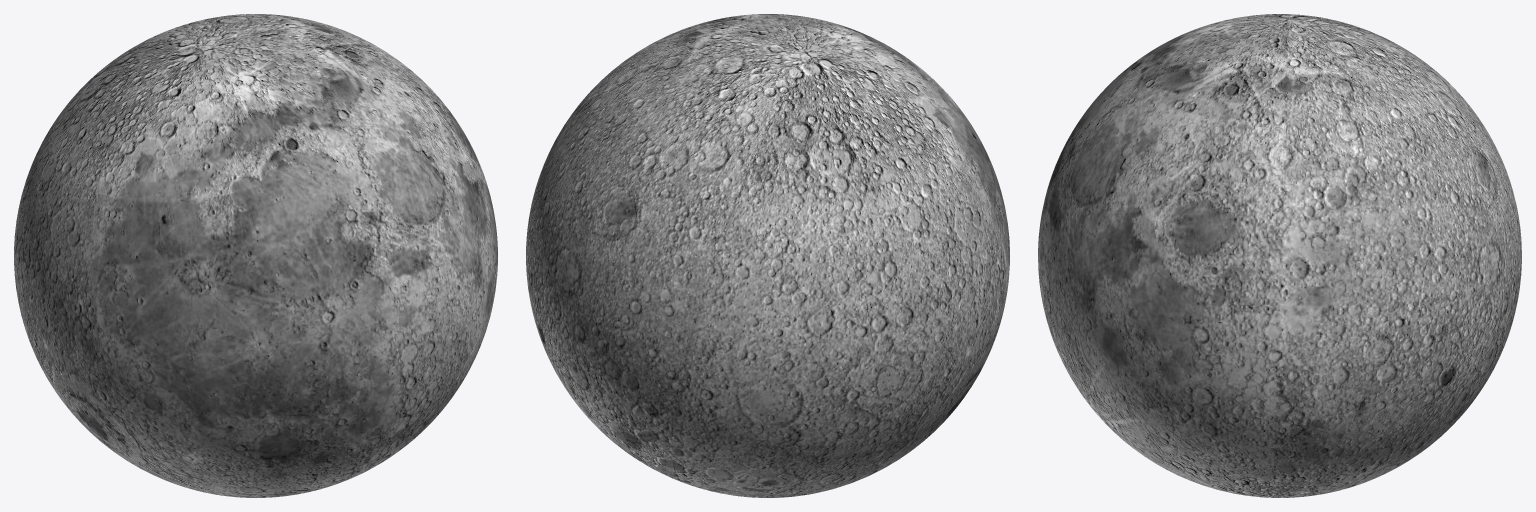
Rendered from Moon.dae.
3 views of the same model, side by side, from view 1: azimuth 30°, elevation 25°; view 2: azimuth 150°, elevation 25°; view 3: azimuth 270°, elevation 25° (orthographic).
Visible parts, largest first — view 1: Sphère; view 2: Sphère; view 3: Sphère.
Part boxes in pixels (x1,y1,x2,y2): Sphère: (14, 14, 497, 497); Sphère: (526, 14, 1009, 497); Sphère: (1038, 14, 1521, 497).
Bounding box in the file's own units: 512 × 512 × 512.
1 material, 1 textured.
